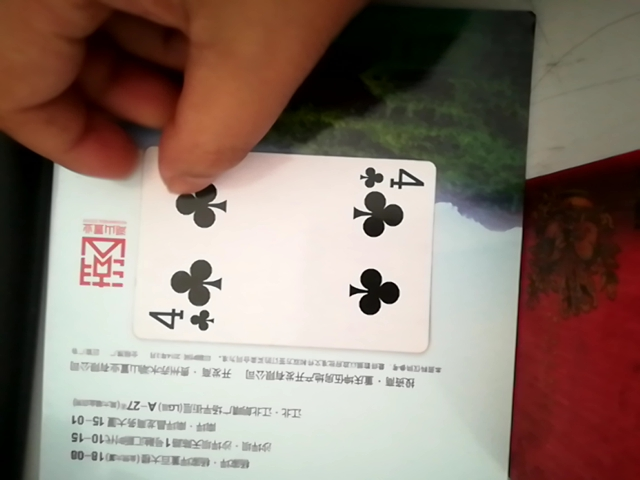mh 4: (51, 149, 444, 357)
